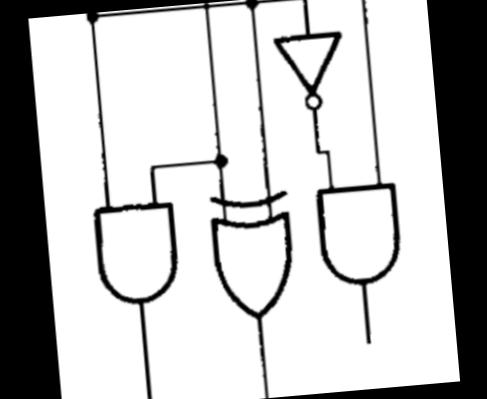and: (78, 188, 187, 326), (308, 172, 408, 290)
not: (268, 22, 352, 113)
xor: (202, 186, 301, 329)
